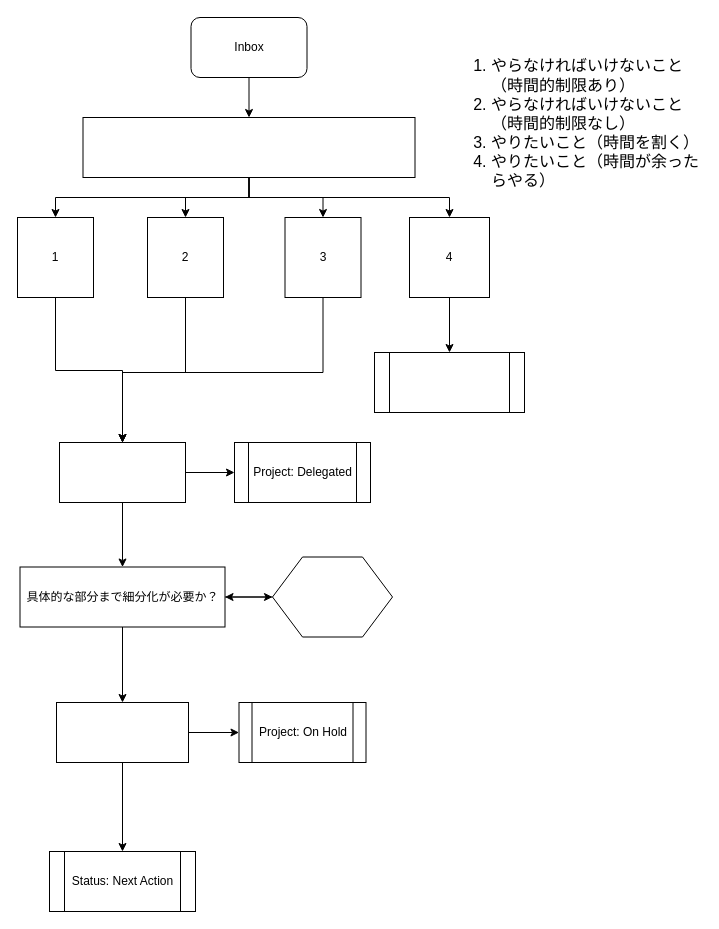
Image size: 719x929. Some labels were removed from this diagram. The shapes that lost their labels are listed below. From the top down, each one's centre as x and y in pixels, then its label:
At (248,147): "Categoryの設定（どれにも当てはまらなければ削除する）".
At (449,382): "Projects: Someday".
At (122,472): "誰かに任せるか？".
At (332,596): "Label: GDPS".
At (122,732): "今すぐ実行可能か？".
